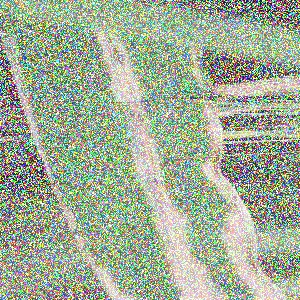Leaf_Blast: (59, 41, 220, 300)
